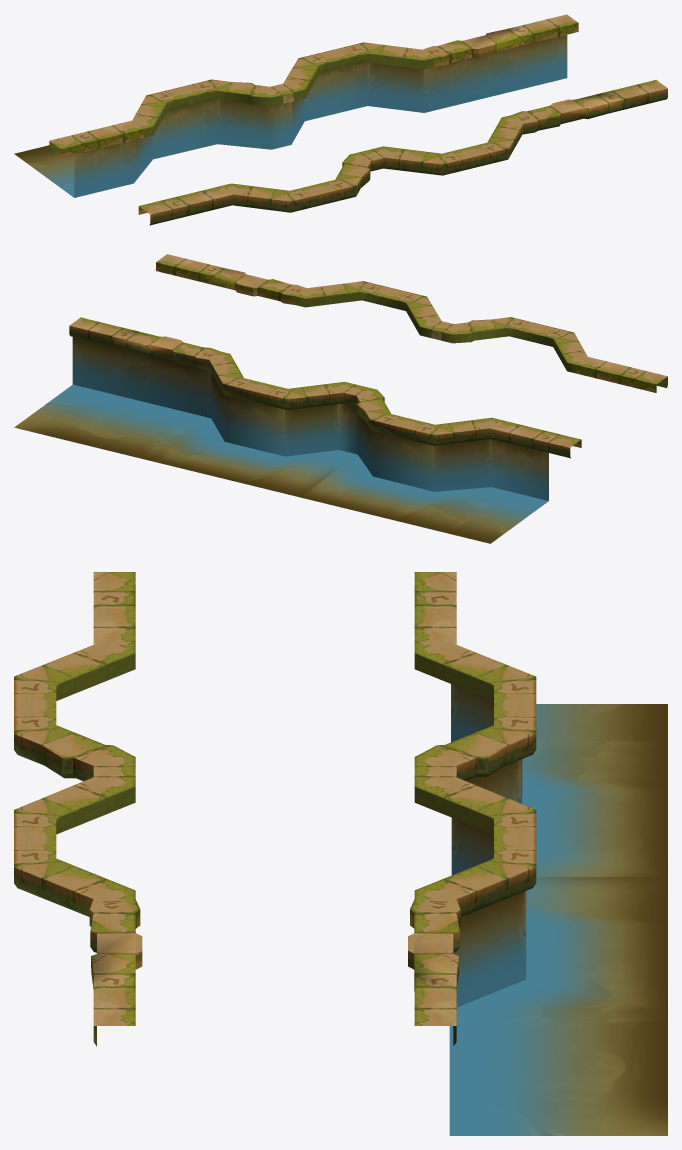
Rendered from Remains_frame_01.fbx.
3 views of the same model, one above another, from view 1: azimuth 30°, elevation 25°; view 2: azimuth 150°, elevation 25°; view 3: azimuth 270°, elevation 25° (orthographic). The views are drawn at different scales.
Visible parts, largest first — view 1: Remains_frame_01; view 2: Remains_frame_01; view 3: Remains_frame_01.
Part boxes in pixels (bbox=[...]): Remains_frame_01: bbox=[14, 14, 667, 225]; Remains_frame_01: bbox=[14, 254, 667, 543]; Remains_frame_01: bbox=[14, 572, 667, 1135].
Size of the model in its own units: 1721 by 197 by 1048.
